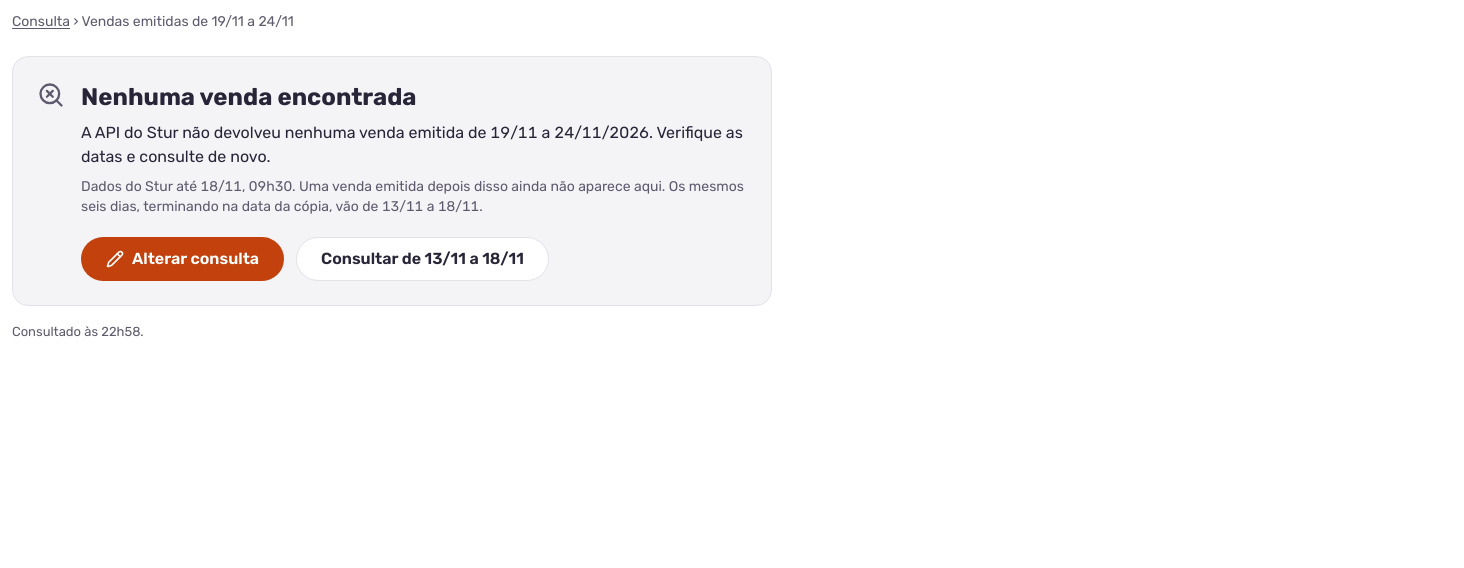
período depois da cópia sem vendas: 13b com Consultar de 13/11 a 18/11
Later steps or results of the test are not shown.
Expected: the heading reads "Nenhuma venda encontrada", [81,83,416,111]
Expected: the message shows "A API do Stur não devolveu nenhuma venda emitida de 19/11 a 24/11/2026. Verifique as datas e consulte de novo.", [81,123,743,166]
Click the button "Consultar de 13/11 a 18/11". click: [422, 259]
box: [296,237,549,281]
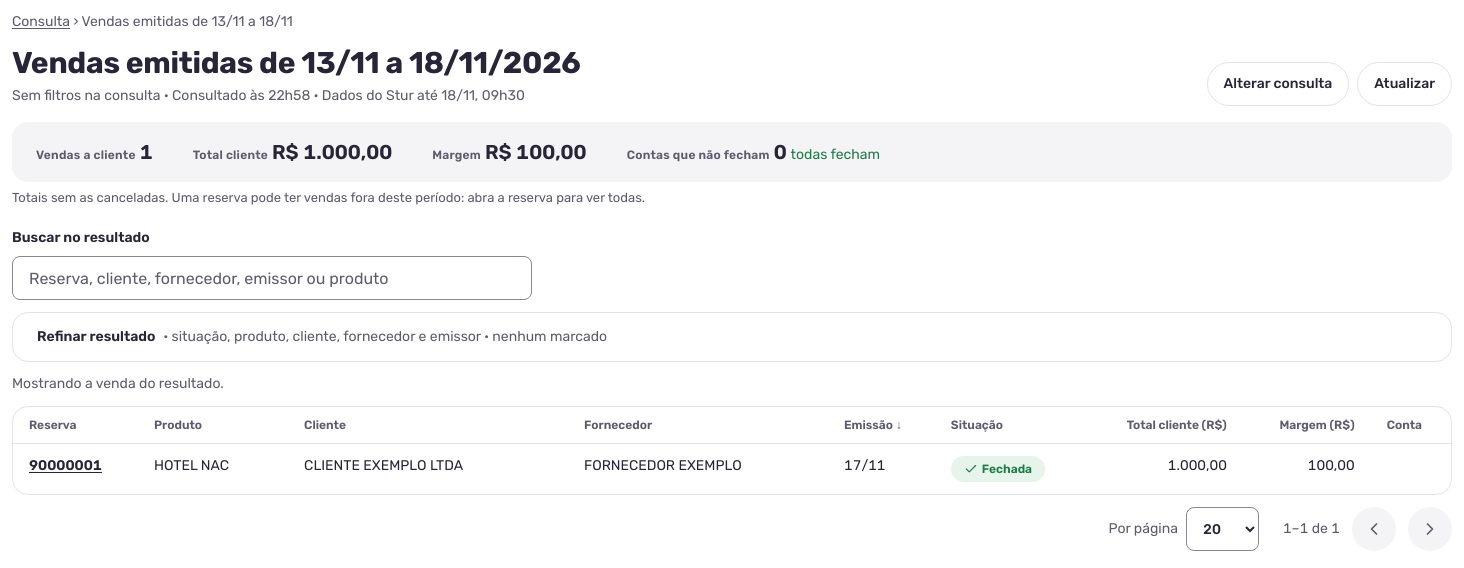
Now the table is shown, box [13,407,1451,494]
